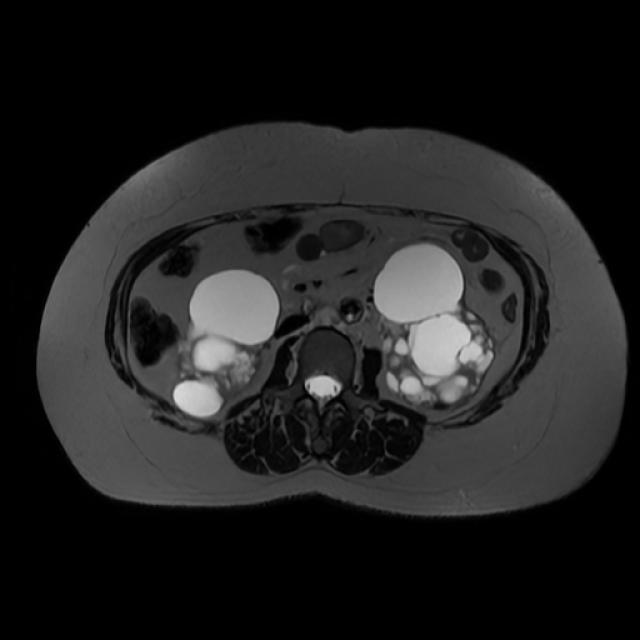sag: (175, 271, 280, 418)
sol: (373, 245, 495, 410)
